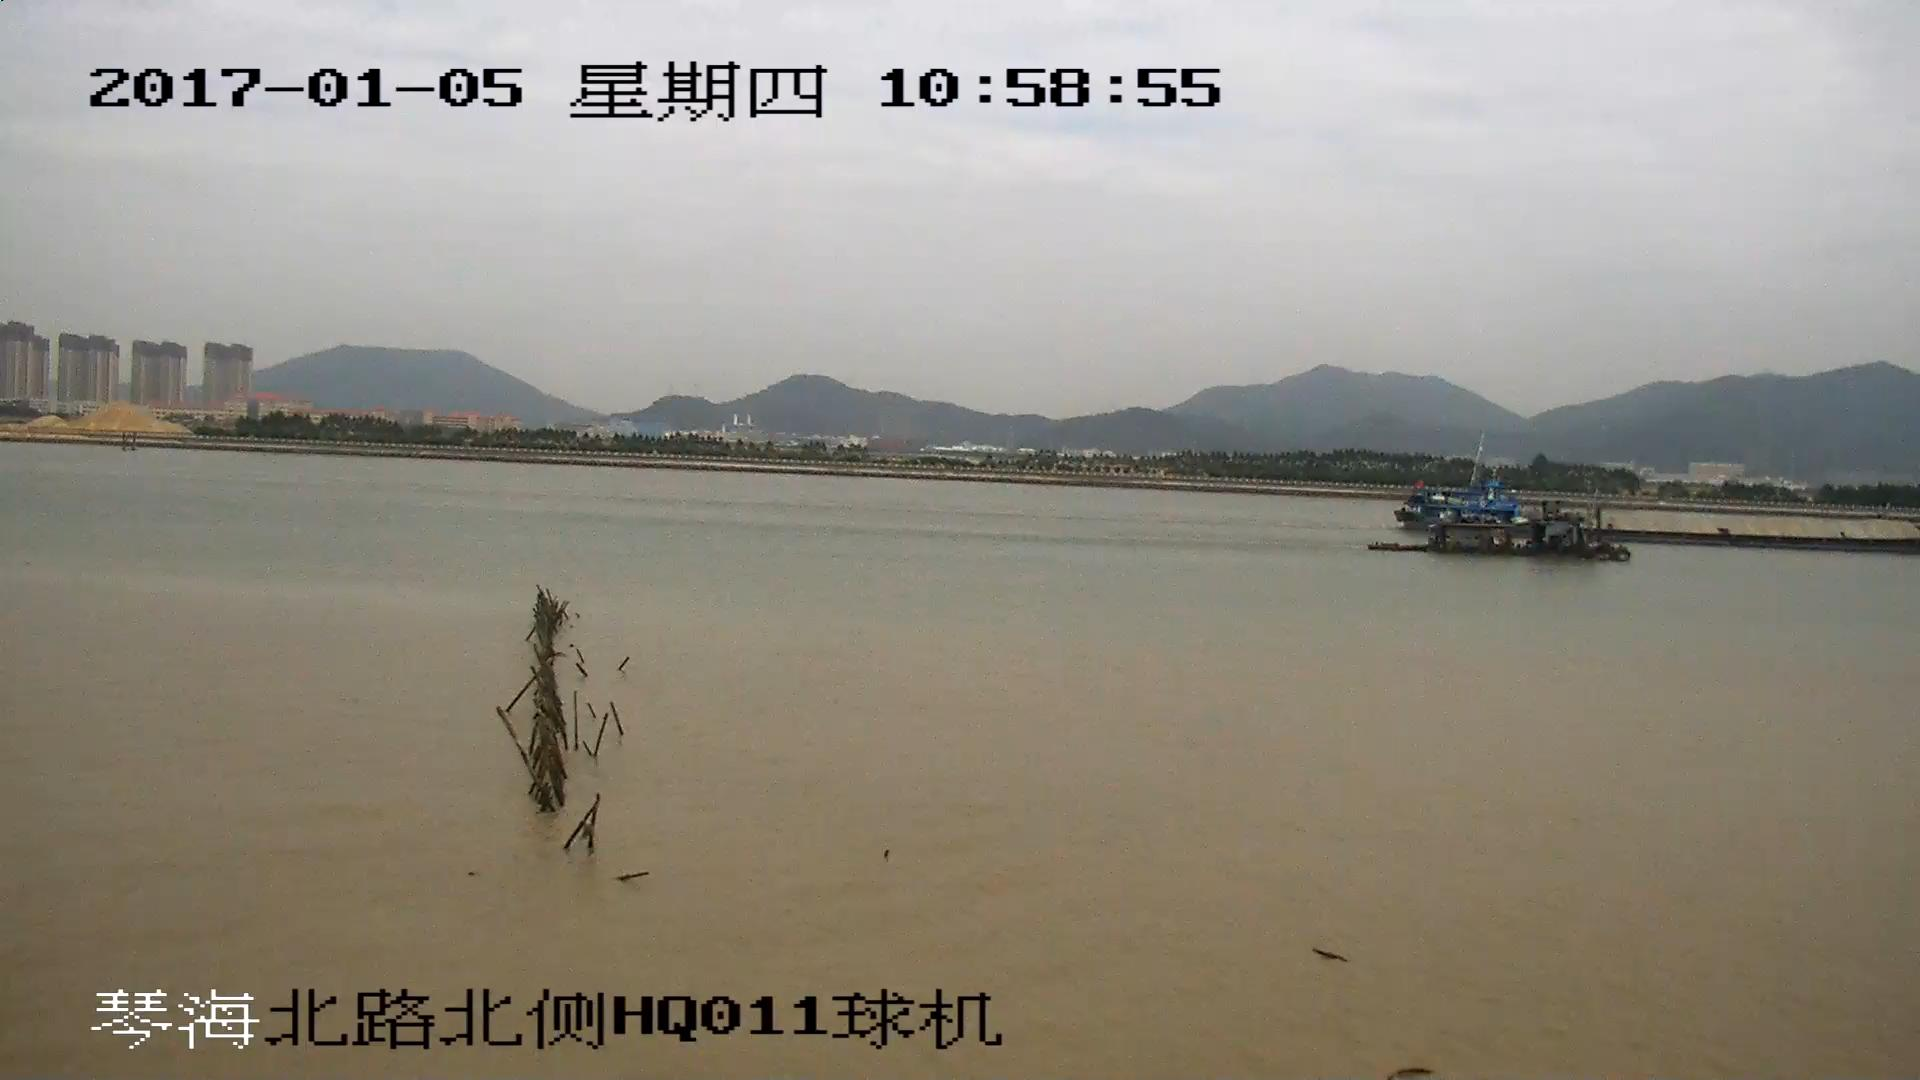ore carrier: (1390, 480, 1920, 563)
